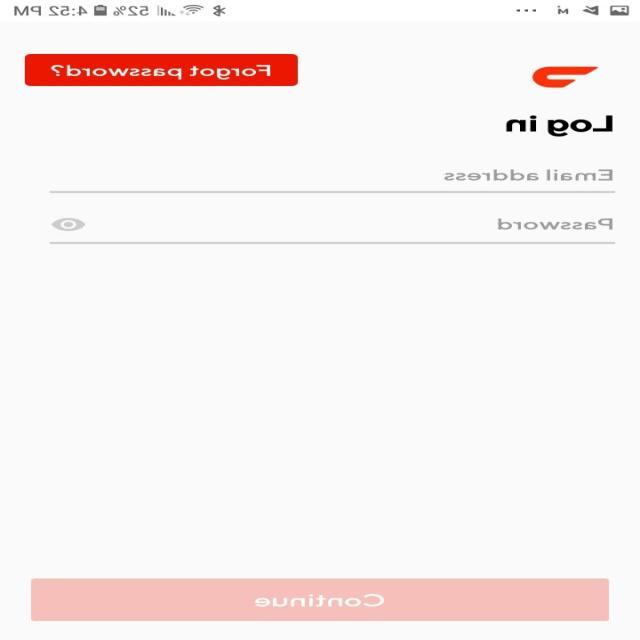EditText: (50, 218, 616, 244), (50, 169, 616, 193)
Icon: (52, 217, 88, 231)
Image: (532, 66, 600, 88)
Text: (506, 115, 614, 136), (444, 169, 614, 181), (498, 218, 614, 230)
TextButton: (32, 578, 610, 620), (25, 53, 298, 86)
